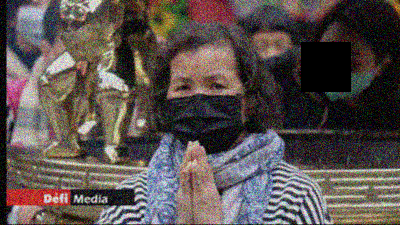with_mask: (161, 71, 247, 154), (315, 35, 375, 103)
